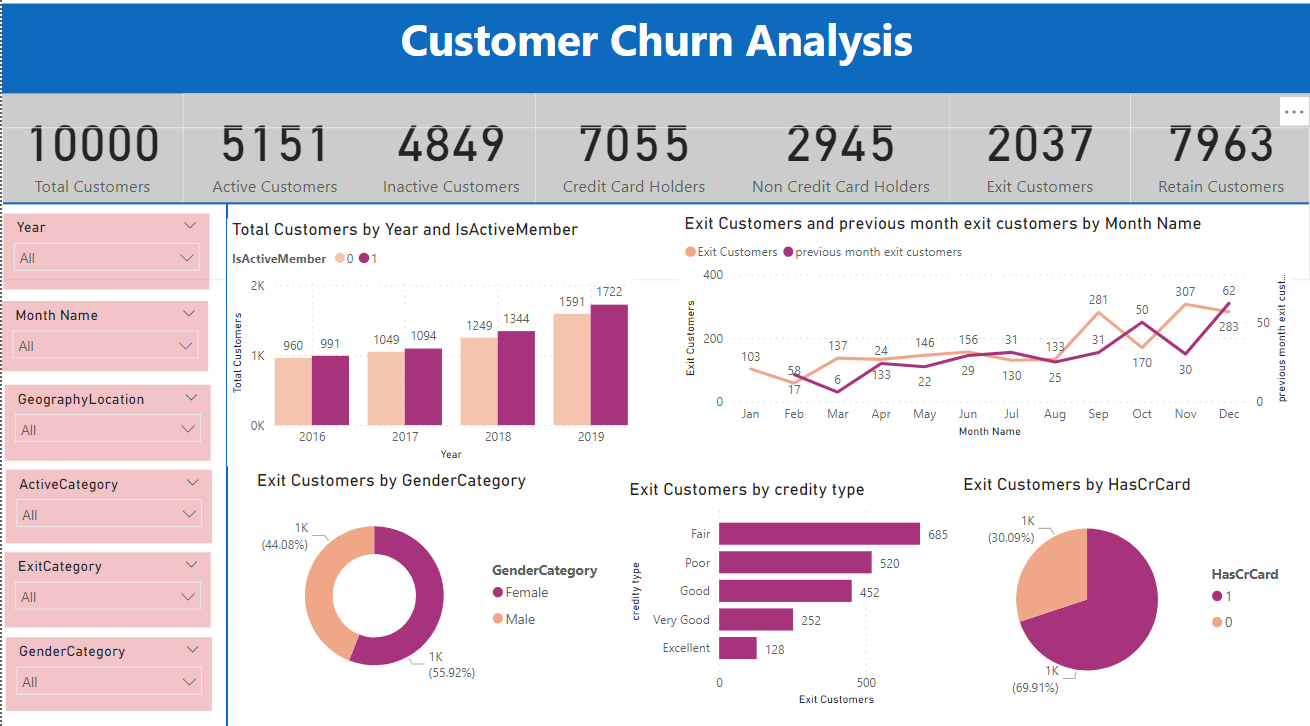

This screenshot's page, from the dashboard's own definition file:
{"tool":"powerbi","page":{"name":"Page 1","canvas":[1280,720],"ordinal":0},"visuals":[{"type":"card","fields":{"Values":["Calculations.Total Customers"]},"box":[0,100.2,177,107],"z":0},{"type":"textbox","box":[0,12.3,1280.3,87.8],"z":3},{"type":"card","fields":{"Values":["Calculations.Active Customers"]},"box":[177,100.2,179.8,107],"z":4},{"type":"card","fields":{"Values":["Calculations.Inactive Customers"]},"box":[356.8,100.2,164.7,107],"z":5},{"type":"card","fields":{"Values":["Calculations.Credit Card Holders"]},"box":[521.4,100.2,192.1,107],"z":6},{"type":"card","fields":{"Values":["Calculations.Non Credit Card Holders"]},"box":[713.6,100.2,212.7,107],"z":7},{"type":"card","fields":{"Values":["Calculations.Exit Customers"]},"box":[926.2,100.2,177,107],"z":8},{"type":"card","fields":{"Values":["Calculations.Retain Customers"]},"box":[1103.3,100.2,177,107],"z":9},{"type":"shape","box":[0,133.2,1279.9,149.1],"z":10},{"type":"shape","box":[1.2,207.8,437.6,512.2],"z":11},{"type":"slicer","fields":{"Values":["DateMaster.Year"]},"box":[1.2,217.6,201.7,74.6],"z":12},{"type":"slicer","fields":{"Values":["DateMaster.Month Name"]},"box":[0,303.2,201.7,68.5],"z":13},{"type":"slicer","fields":{"Values":["Geography.GeographyLocation"]},"box":[2.4,385.1,201.7,74.6],"z":14},{"type":"slicer","fields":{"Values":["ActiveCustomer.ActiveCategory"]},"box":[3.7,468.2,201.7,72.1],"z":15},{"type":"slicer","fields":{"Values":["ExitCustomer.ExitCategory"]},"box":[2.4,548.9,201.7,73.3],"z":16},{"type":"slicer","fields":{"Values":["Gender.GenderCategory"]},"box":[3.7,632,201.7,72.1],"z":17},{"type":"clusteredColumnChart","fields":{"Category":["DateMaster.Year","DateMaster.Month Name"],"Y":["Calculations.Total Customers"],"Series":["Bank_Churn.IsActiveMember"]},"box":[220,222.5,397.3,242],"z":18},{"type":"lineChart","fields":{"Category":["DateMaster.Month Name"],"Y":["Calculations.Exit Customers"],"Y2":["Calculations.previous month exit customers"]},"box":[662.5,216.4,600.2,224.9],"z":19},{"type":"donutChart","fields":{"Y":["Calculations.Exit Customers"],"Category":["Gender.GenderCategory"]},"box":[244.5,468.2,349.6,227.4],"z":20},{"type":"barChart","fields":{"Y":["Calculations.Exit Customers"],"Category":["Bank_Churn.credity type"]},"box":[608.8,476.7,337.4,227.4],"z":21},{"type":"pieChart","fields":{"Y":["Calculations.Exit Customers"],"Category":["Bank_Churn.HasCrCard"]},"box":[935.1,471.9,337.4,227.4],"z":22}]}

Visuals, with their boxes in screenshot pixels (x1, y1, x2, y2), scaled from the page's 1280x720 canvas onto the 1310x726 screenshot:
card - Calculations.Total Customers: [0,101,181,209]
textbox: [0,12,1309,101]
card - Calculations.Active Customers: [181,101,365,209]
card - Calculations.Inactive Customers: [365,101,534,209]
card - Calculations.Credit Card Holders: [534,101,730,209]
card - Calculations.Non Credit Card Holders: [730,101,948,209]
card - Calculations.Exit Customers: [948,101,1129,209]
card - Calculations.Retain Customers: [1129,101,1309,209]
shape: [0,134,1309,285]
shape: [1,210,449,725]
slicer - DateMaster.Year: [1,219,208,295]
slicer - DateMaster.Month Name: [0,306,206,375]
slicer - Geography.GeographyLocation: [2,388,209,464]
slicer - ActiveCustomer.ActiveCategory: [4,472,210,545]
slicer - ExitCustomer.ExitCategory: [2,553,209,627]
slicer - Gender.GenderCategory: [4,637,210,710]
clusteredColumnChart - DateMaster.Year x DateMaster.Month Name: [225,224,632,468]
lineChart - DateMaster.Month Name x Calculations.Exit Customers: [678,218,1292,445]
donutChart - Calculations.Exit Customers x Gender.GenderCategory: [250,472,608,701]
barChart - Calculations.Exit Customers x Bank_Churn.credity type: [623,481,968,710]
pieChart - Calculations.Exit Customers x Bank_Churn.HasCrCard: [957,476,1302,705]
